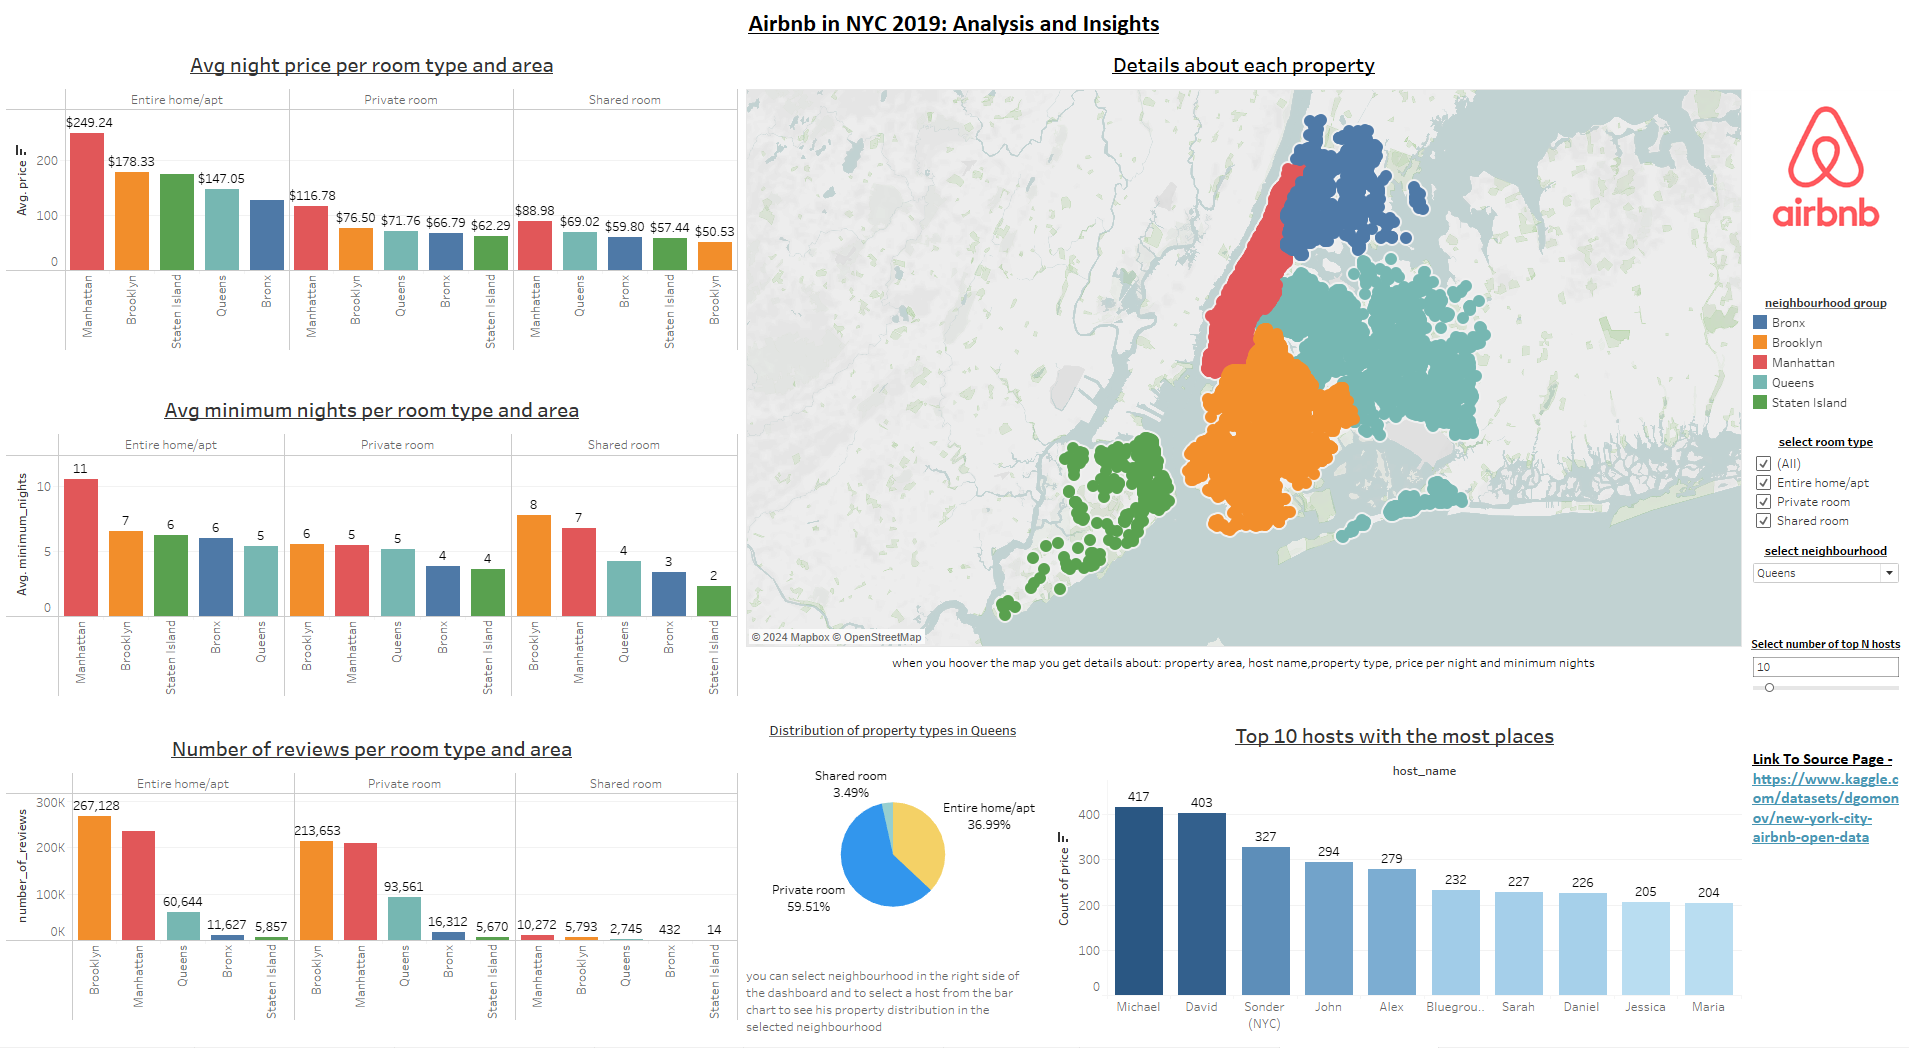

The dashboard page shown, as its layout file describes it:
{"tool":"tableau","page":{"name":"New York Airbnb 2019","canvas":[1000,1000],"units":"permille","ordinal":0},"visuals":[{"type":"text","box":[4.9,8.9,990.1,35.5]},{"type":"worksheet","title":"Avg night price per room type and area","mark":"Automatic","rows":["price"],"cols":["room_type","neighbourhood_group"],"box":[4.9,44.5,378.4,286.9]},{"type":"worksheet","title":"Neighbourhoods area","mark":"Automatic","rows":["latitude"],"cols":["longitude"],"box":[383.4,44.5,513.2,602.2]},{"type":"image","param":"Image/הורדה.png","box":[896.6,44.5,98.5,178.7]},{"type":"legend","title":"Neighbourhoods area","param":"[federated.0t2e5vb00ra8r3150z5f71r7m8j9].[none:neighbourhood_group:nk]","box":[896.6,223.2,98.5,155.1]},{"type":"blank","box":[4.9,331.4,378.4,35.7]},{"type":"worksheet","title":"Avg minimum nights per room type and area","mark":"Automatic","rows":["minimum_nights"],"cols":["room_type","neighbourhood_group"],"box":[4.9,367.1,378.4,298]},{"type":"filter","title":"Top N hosts with the most places","param":"[federated.0t2e5vb00ra8r3150z5f71r7m8j9].[none:room_type:nk]","box":[896.6,378.3,98.5,121.7]},{"type":"parameter","param":"[Parameters].[Parameter 2]","box":[896.6,499.9,98.5,104.9]},{"type":"parameter","param":"[Parameters].[Parameter 1]","box":[896.6,604.9,98.5,126.1]},{"type":"blank","box":[383.4,646.7,513.2,35.2]},{"type":"blank","box":[4.9,665.1,378.4,29]},{"type":"worksheet","title":"Distribution of property types in the <Parameters.select neighbourhood>","mark":"Pie","box":[383.4,681.8,186,309.2]},{"type":"worksheet","title":"Top N hosts with the most places","mark":"Automatic","rows":["price"],"cols":["host_name"],"box":[569.3,681.8,327.2,309.2]},{"type":"worksheet","title":"Number of reviews per room type and area","mark":"Automatic","rows":["number_of_reviews"],"cols":["room_type","neighbourhood_group"],"box":[4.9,694.1,378.4,296.9]},{"type":"text","box":[896.6,731,98.5,120.5]}]}

Visuals, with their boxes on the dashboard's canvas, which has no fixed pixel size, in thousandths of its width and height (x1, y1, x2, y2). These are canvas units, not pixel positions in the 1909x1048 screenshot, which may show the page scaled, cropped or inside an application window:
text: locate(5, 9, 995, 44)
"Avg night price per room type and area" worksheet: locate(5, 44, 383, 331)
"Neighbourhoods area" worksheet: locate(383, 44, 897, 647)
image: locate(897, 44, 995, 223)
"Neighbourhoods area" legend: locate(897, 223, 995, 378)
blank: locate(5, 331, 383, 367)
"Avg minimum nights per room type and area" worksheet: locate(5, 367, 383, 665)
"Top N hosts with the most places" filter: locate(897, 378, 995, 500)
parameter: locate(897, 500, 995, 605)
parameter: locate(897, 605, 995, 731)
blank: locate(383, 647, 897, 682)
blank: locate(5, 665, 383, 694)
"Distribution of property types in the <Parameters.select neighbourhood>" worksheet (Pie marks): locate(383, 682, 569, 991)
"Top N hosts with the most places" worksheet: locate(569, 682, 896, 991)
"Number of reviews per room type and area" worksheet: locate(5, 694, 383, 991)
text: locate(897, 731, 995, 852)
